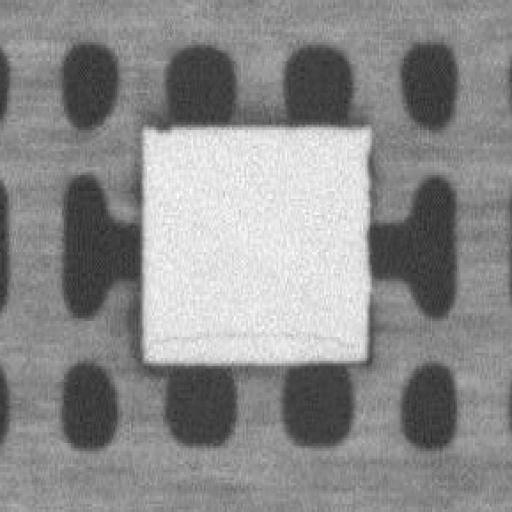DIE_CRACK: (144, 326, 360, 348)
